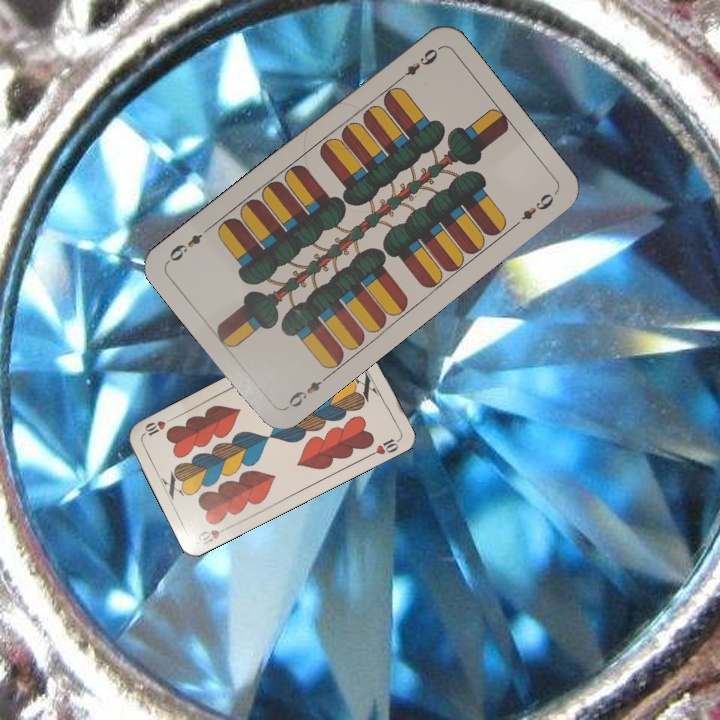E9: (281, 371, 332, 412), (392, 44, 441, 85)
H10: (193, 522, 233, 549)
